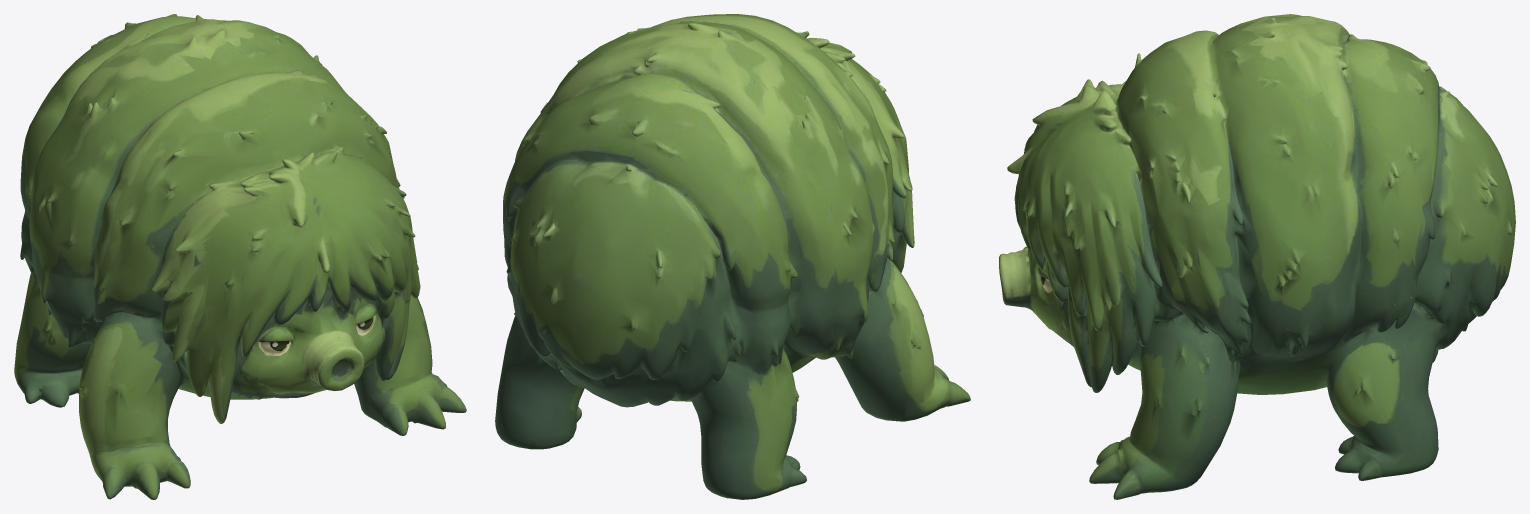
The picture shows the model from 3 angles, left to right: view 1: azimuth 30°, elevation 25°; view 2: azimuth 150°, elevation 25°; view 3: azimuth 270°, elevation 25°; orthographic projection. The views are drawn at different scales.
Parts seen in each view (by area): view 1: Mesh_0; view 2: Mesh_0; view 3: Mesh_0.
Boxes of the visible parts, x1,y1,x2,y2 form: Mesh_0: (14, 14, 466, 499); Mesh_0: (495, 14, 970, 499); Mesh_0: (999, 14, 1515, 499).
Bounding box in the file's own units: 1.59 × 1.55 × 1.9.
1 material, 1 textured.
